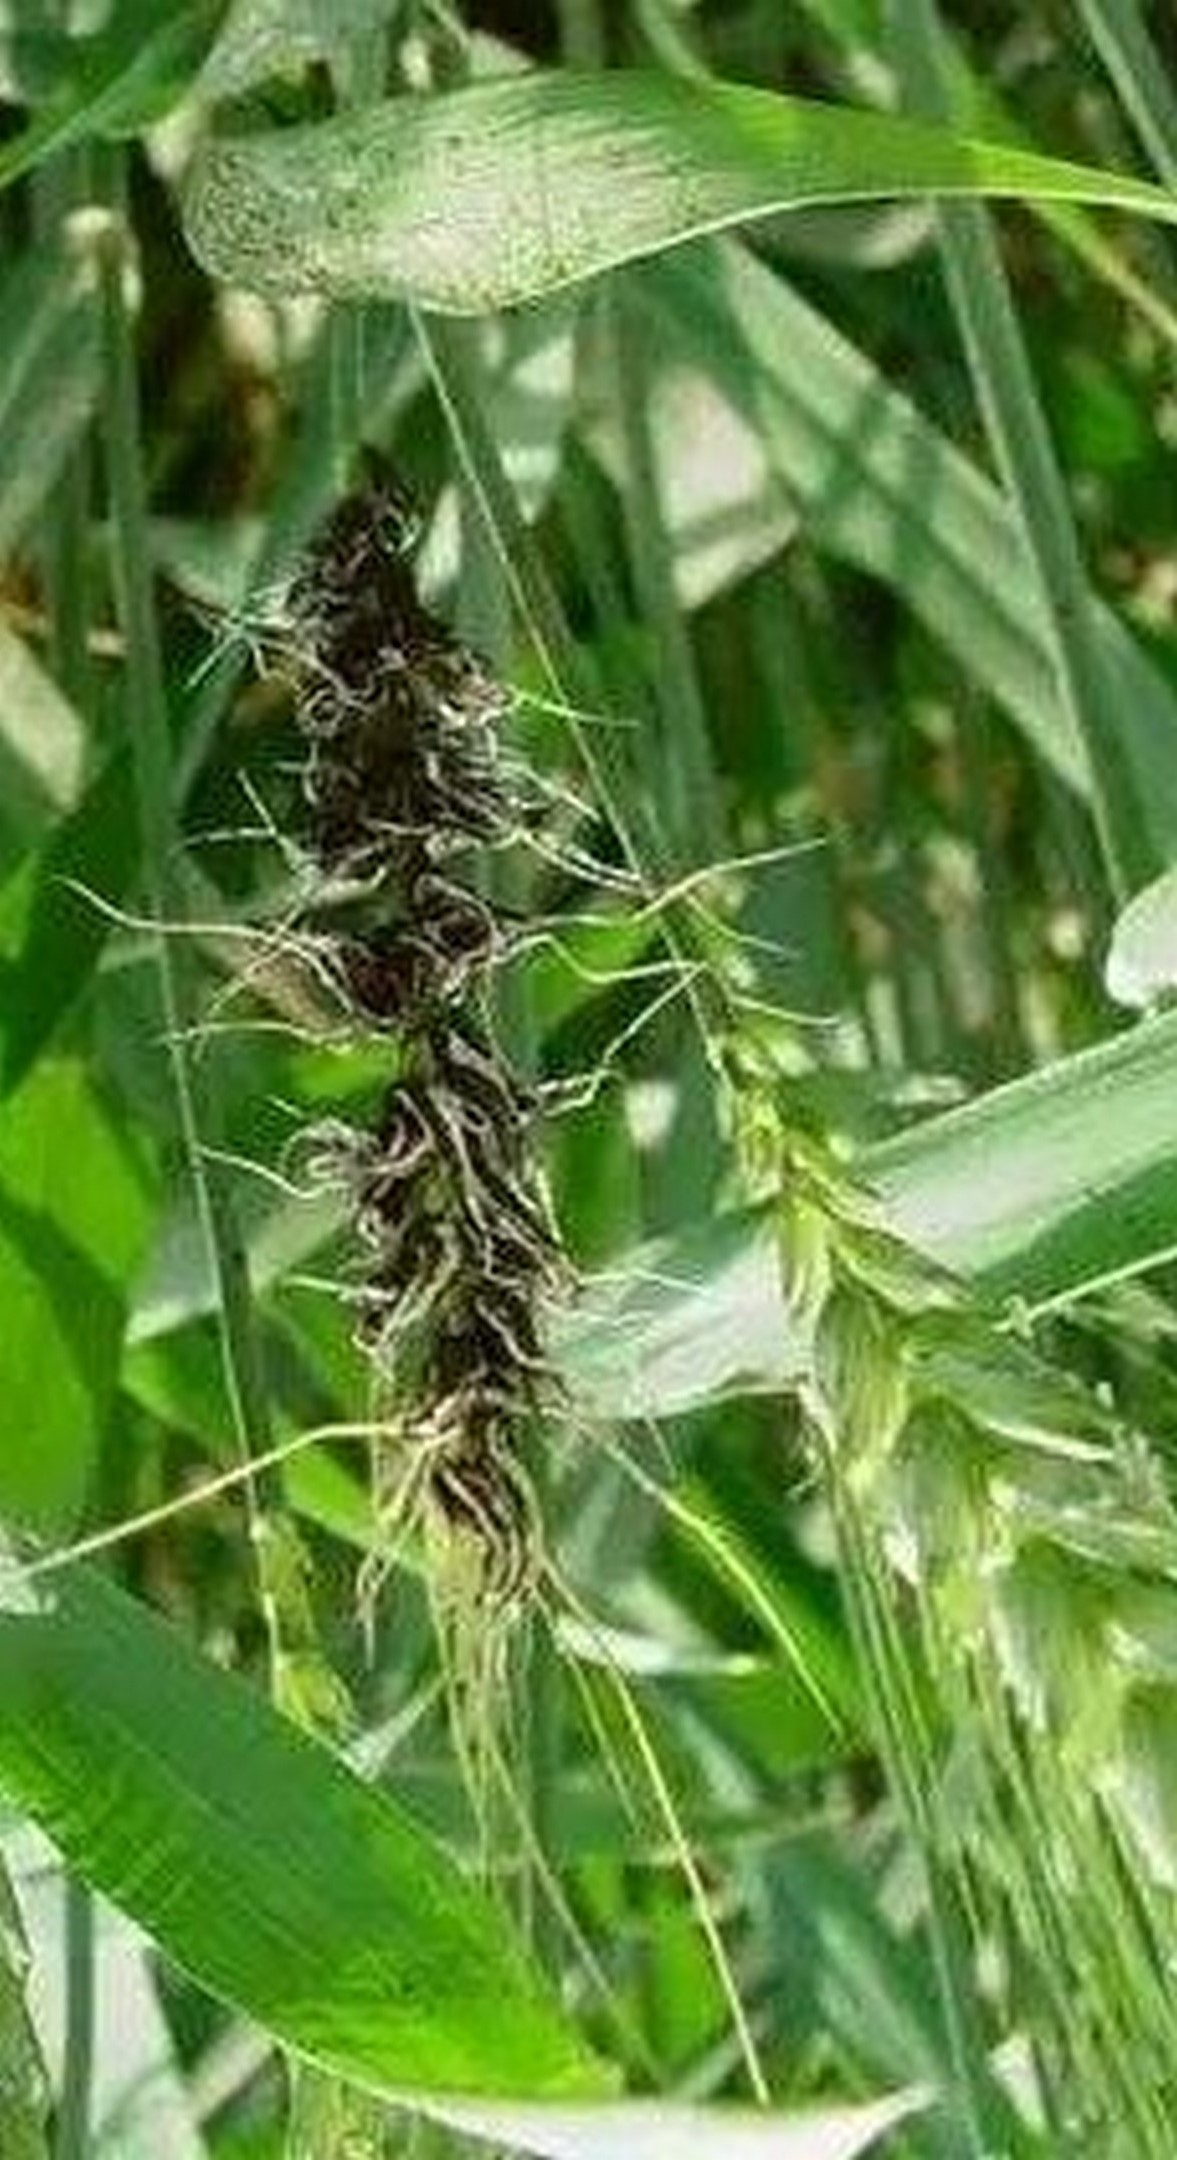Wheat Loose Smut: (246, 461, 629, 1623)
